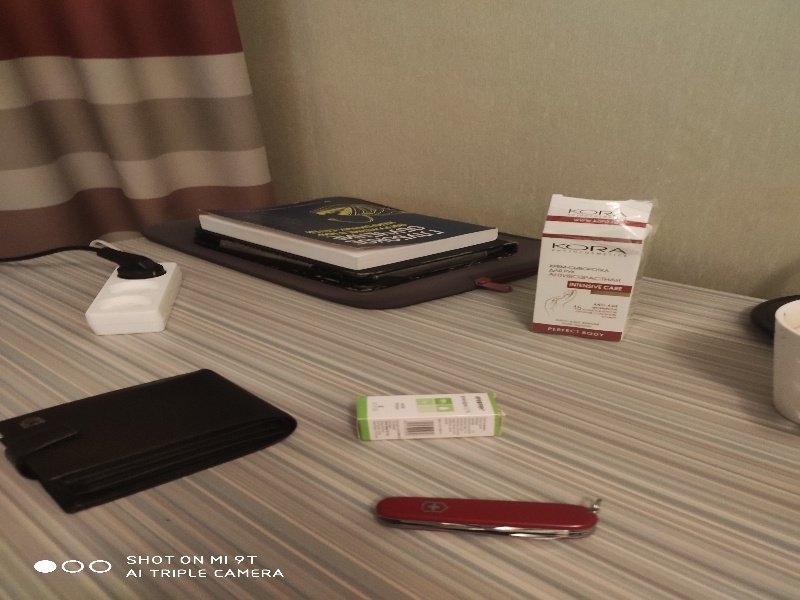ifrin: (351, 385, 511, 445)
knife: (368, 485, 608, 551)
wallet: (1, 354, 301, 518)
